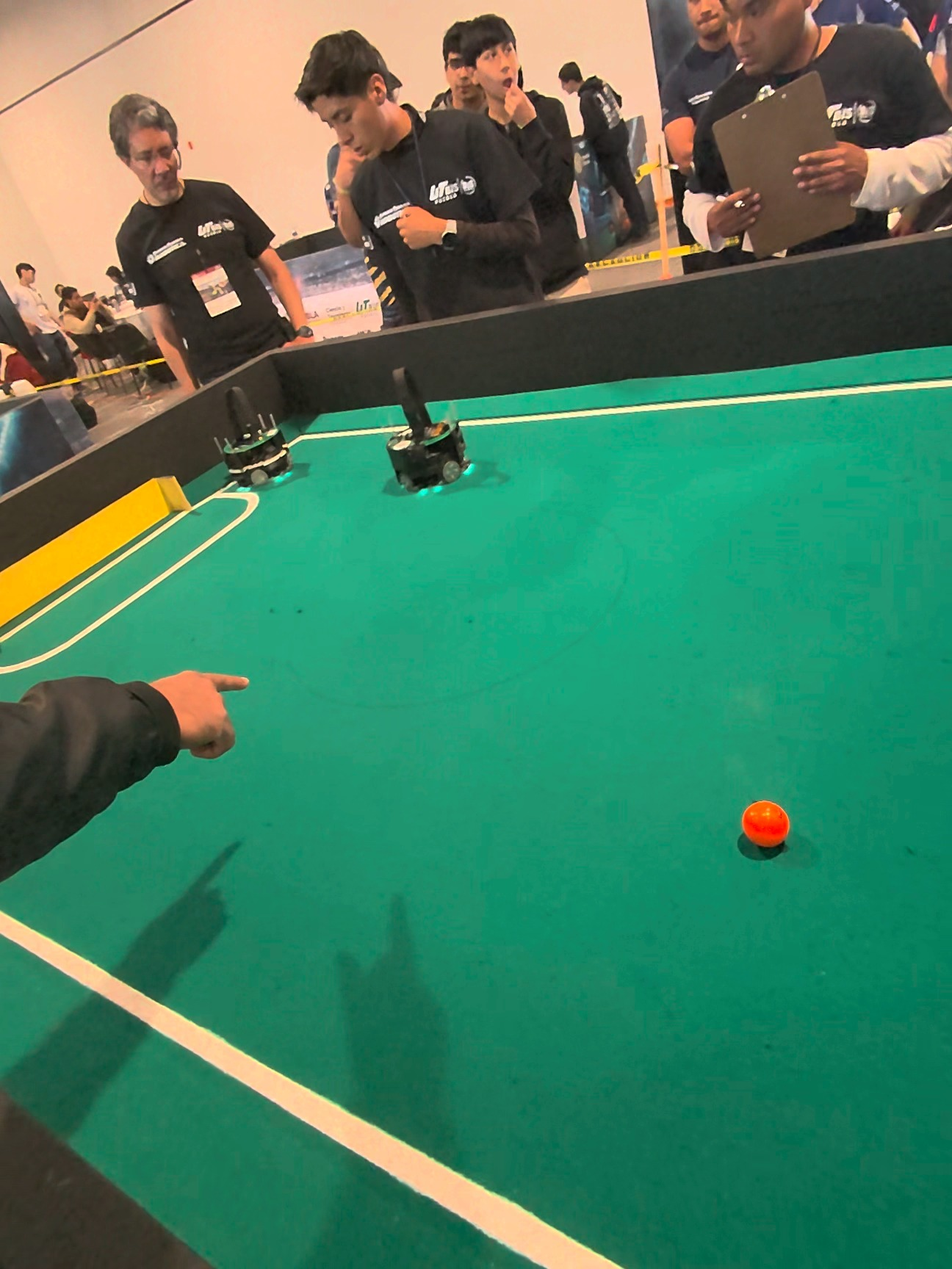Robot: (380, 361, 477, 501), (210, 373, 301, 496)
pelota: (740, 801, 791, 858)
